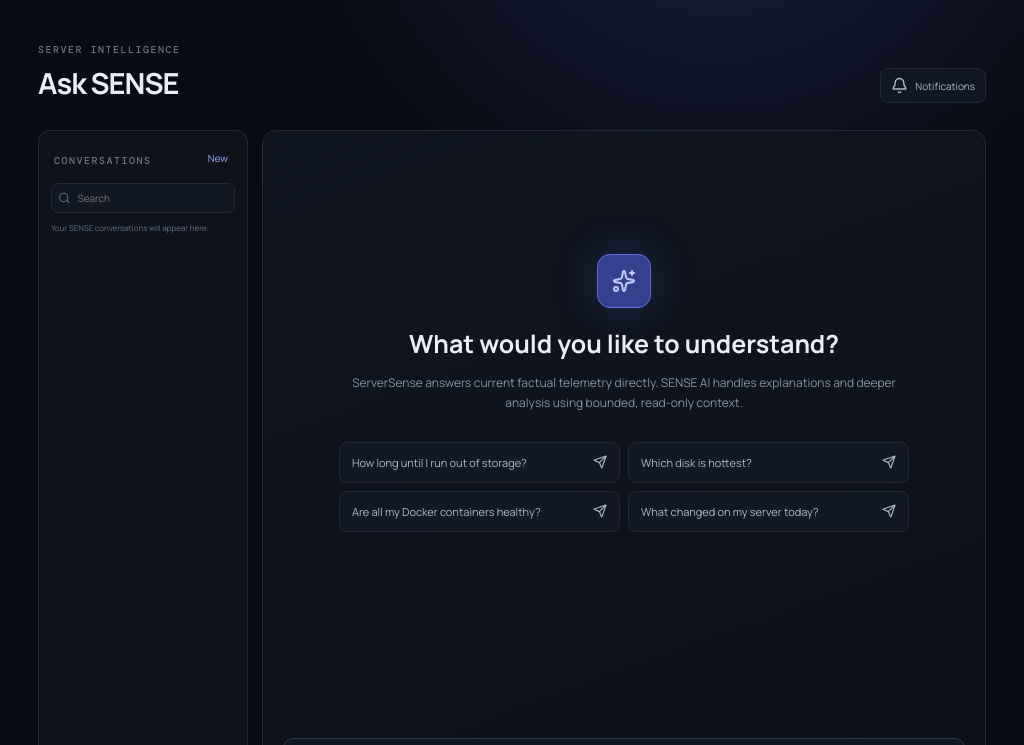
SENSE requests › stops the active backend request without saving a partial answer
Click the button "How long until I run out of storage?" at (480, 462), box [339, 442, 620, 483]
(page scrolled)
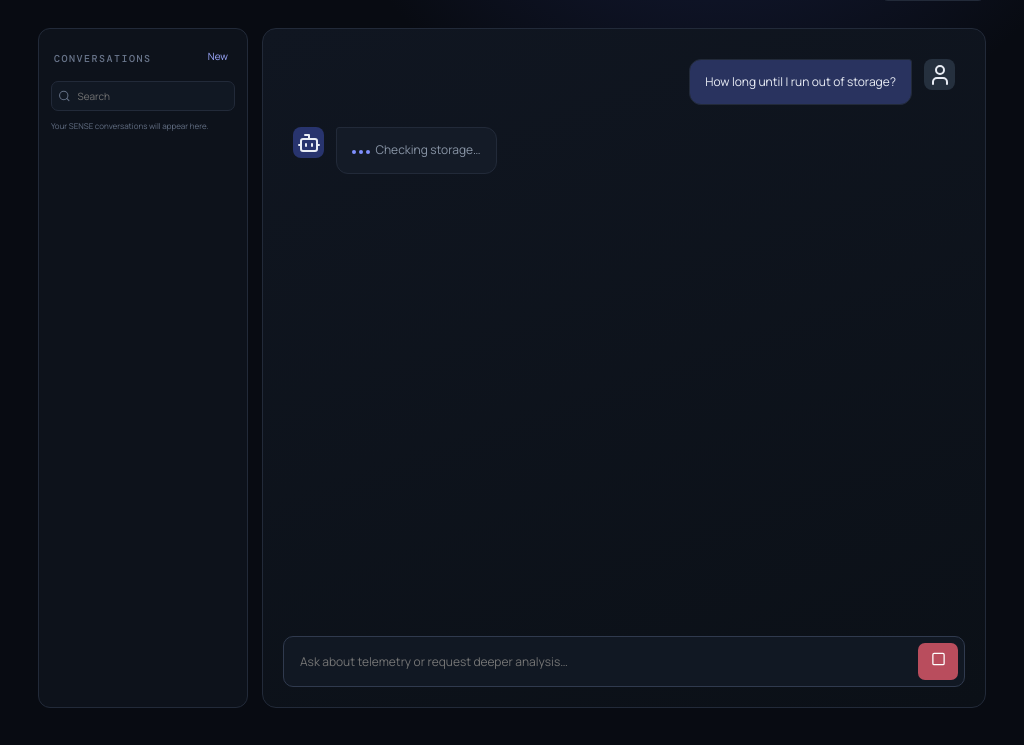
Click the button named "Stop response" at (938, 662), box [918, 643, 958, 680]
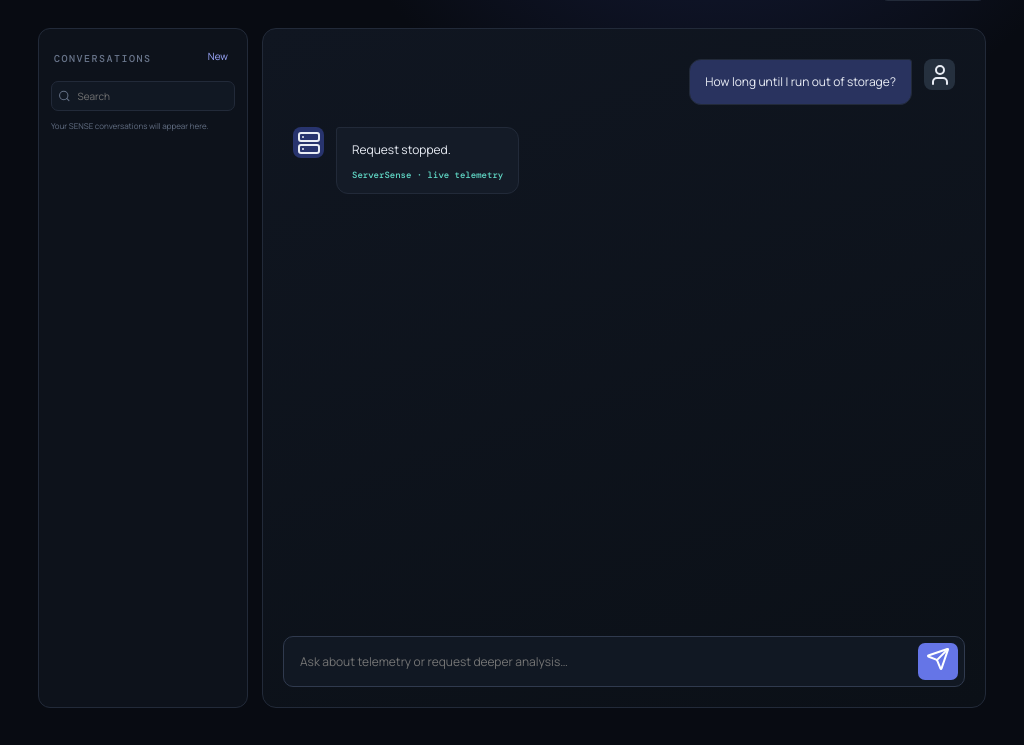
Check: the text "Request stopped." is shown, box [352, 141, 451, 158]
